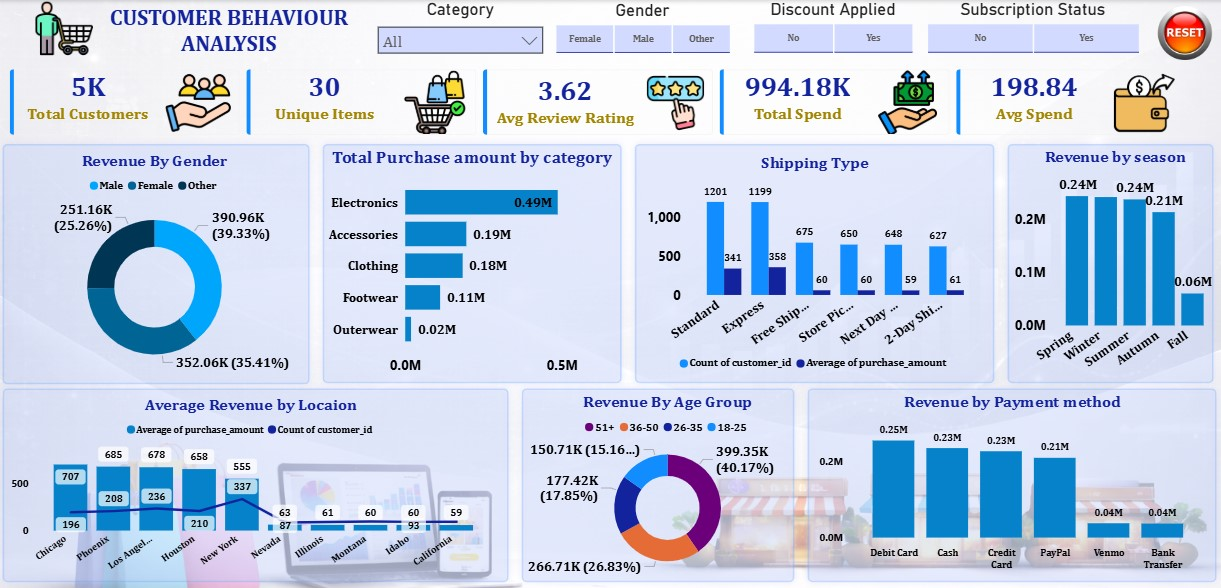

The page's visual inventory and layout, read from the dashboard file:
{"tool":"powerbi","page":{"name":"Customer Analysis Revenue","canvas":[1500,720],"ordinal":0},"visuals":[{"type":"cardVisual","fields":{"Data":["customer_table.Total Customers","customer_table.Unique Item Purchase","customer_table.Avg Review Rating","customer_table.Total Spend","customer_table.Avg Spend"]},"box":[0,67.9,1475.9,114.8],"z":0},{"type":"shape","box":[0,167.8,391.2,309.8],"z":1000},{"type":"donutChart","title":"Revenue By Gender","fields":{"Category":["customer_table.gender"],"Y":["Sum(customer_table.purchase_amount)"]},"box":[13.6,183.9,360.3,281.4],"z":2000},{"type":"shape","box":[391.2,167.8,381.3,308.5],"z":3000},{"type":"shape","box":[772.5,167.8,455.4,308.5],"z":4000},{"type":"shape","box":[1227.9,167.8,267.8,308.5],"z":5000},{"type":"barChart","title":"Total Purchase amount by category","fields":{"Category":["customer_table.category"],"Y":["Sum(customer_table.purchase_amount)"]},"box":[401.1,178.9,361.6,288.8],"z":6000},{"type":"clusteredColumnChart","title":"Shipping Type","fields":{"Category":["customer_table.shipping_type"],"Y":["CountNonNull(customer_table.customer_id)","Avg(customer_table.purchase_amount)"]},"box":[789.8,186.3,420.8,276.4],"z":7000},{"type":"shape","box":[0,466.5,634.3,253],"z":8000},{"type":"shape","box":[634.3,466.5,349.2,253],"z":9000},{"type":"shape","box":[983.6,466.5,515.8,253],"z":10000},{"type":"lineClusteredColumnComboChart","title":"Average Revenue by Locaion","fields":{"Category":["customer_table.location"],"Y":["Avg(customer_table.purchase_amount)"],"Y2":["CountNonNull(customer_table.customer_id)"]},"box":[13.6,482.5,596.1,227.1],"z":11000},{"type":"donutChart","title":"Revenue By Age Group","fields":{"Category":["customer_table.age (groups)"],"Y":["Sum(customer_table.purchase_amount)"]},"box":[640.5,478.8,360.3,230.8],"z":12000},{"type":"clusteredColumnChart","title":"Revenue by season","fields":{"Category":["customer_table.season"],"Y":["Sum(customer_table.purchase_amount)"]},"box":[1239,178.9,256.7,288.8],"z":13000},{"type":"clusteredColumnChart","title":"Revenue by Payment method","fields":{"Category":["customer_table.payment_method"],"Y":["Sum(customer_table.purchase_amount)"]},"box":[1000.8,478.8,482.5,227.1],"z":14000},{"type":"textbox","box":[127.2,0,314.6,79.3],"z":14001},{"type":"image","box":[13.7,0,139.5,69.8],"z":14002},{"type":"slicer","title":"Category","fields":{"Values":["customer_table.category"]},"box":[456.9,0,221.6,69.8],"z":14003},{"type":"slicer","title":"Gender","fields":{"Values":["customer_table.gender"]},"box":[659,1.2,261.6,70.3],"z":14004},{"type":"slicer","title":"Discount Applied","fields":{"Values":["customer_table.discount_applied"]},"box":[900.9,0,243.1,71.6],"z":14005},{"type":"slicer","title":"Subscription Status","fields":{"Values":["customer_table.subscription_status"]},"box":[1113.1,0,307.3,71.6],"z":14006},{"type":"image","box":[1407.6,1.4,88.9,79.3],"z":14007}]}

Visuals, with their boxes in screenshot pixels (x1, y1, x2, y2), scaled from the page's 1500x720 canvas onto the 1221x588 screenshot:
cardVisual - customer_table.Total Customers x customer_table.Unique Item Purchase: (0, 55, 1201, 149)
shape: (0, 137, 318, 390)
"Revenue By Gender" donutChart: (11, 150, 304, 380)
shape: (318, 137, 629, 389)
shape: (629, 137, 1000, 389)
shape: (1000, 137, 1217, 389)
"Total Purchase amount by category" barChart: (326, 146, 621, 382)
"Shipping Type" clusteredColumnChart: (643, 152, 985, 378)
shape: (0, 381, 516, 587)
shape: (516, 381, 801, 587)
shape: (801, 381, 1220, 587)
"Average Revenue by Locaion" lineClusteredColumnComboChart: (11, 394, 496, 580)
"Revenue By Age Group" donutChart: (521, 391, 815, 580)
"Revenue by season" clusteredColumnChart: (1009, 146, 1217, 382)
"Revenue by Payment method" clusteredColumnChart: (815, 391, 1207, 576)
textbox: (104, 0, 360, 65)
image: (11, 0, 125, 57)
"Category" slicer: (372, 0, 552, 57)
"Gender" slicer: (536, 1, 749, 58)
"Discount Applied" slicer: (733, 0, 931, 58)
"Subscription Status" slicer: (906, 0, 1156, 58)
image: (1146, 1, 1218, 66)
